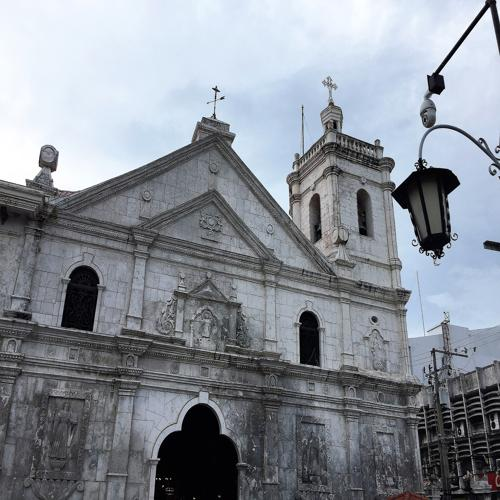Sto. Nino Basilica Church: (3, 72, 427, 500)
